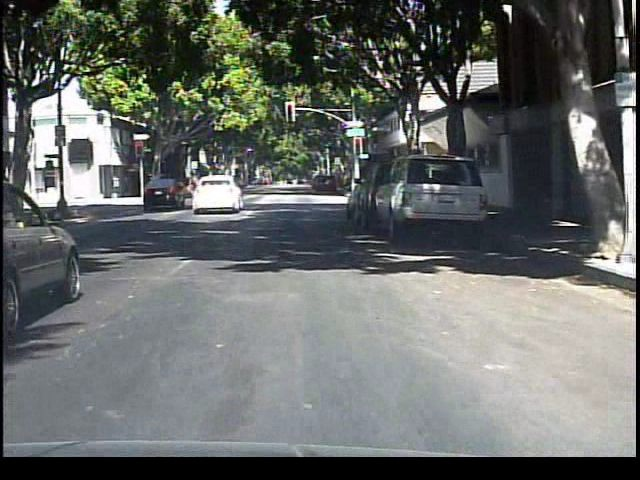person: (184, 168, 209, 210)
